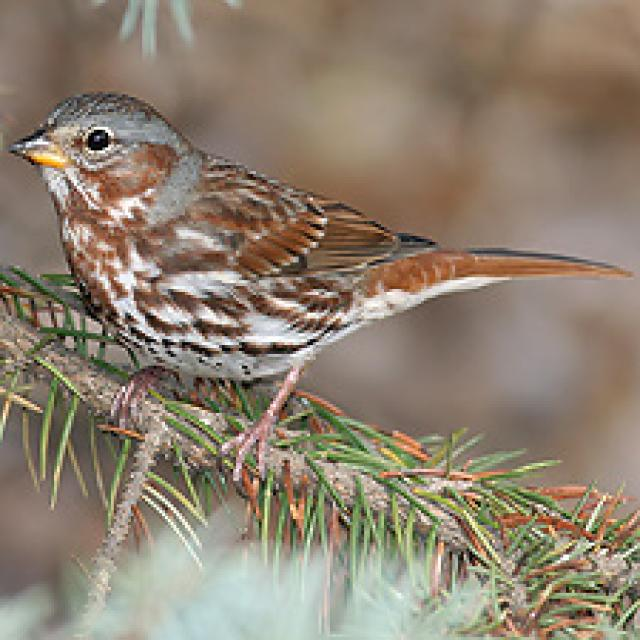not_pig: (6, 86, 634, 496)
